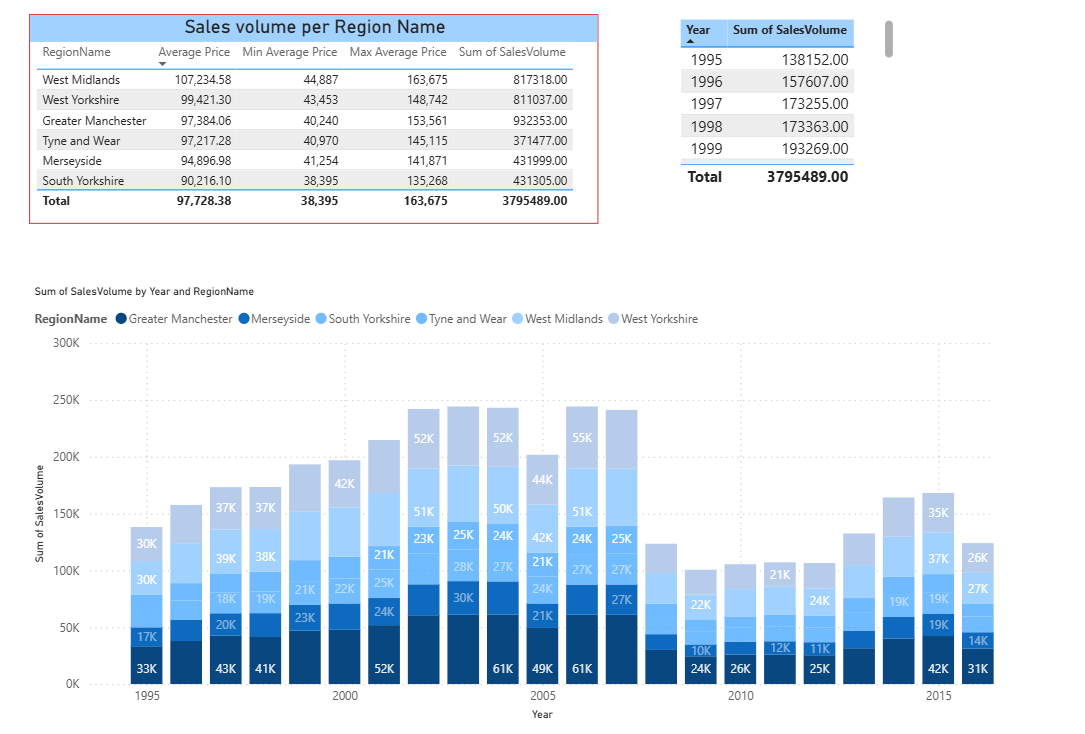

This screenshot's page, from the dashboard's own definition file:
{"tool":"powerbi","page":{"name":"Bar_Chart","canvas":[1280,720],"ordinal":3},"visuals":[{"type":"columnChart","fields":{"Category":["HPIAdmins.Date.Variation.Date Hierarchy.Year"],"Y":["Sum(HPIAdmins.SalesVolume)"],"Series":["HPIAdmins.RegionName"]},"box":[47.5,274,869.6,394],"z":0},{"type":"tableEx","title":"Sales volume per Region Name","fields":{"Values":["HPIAdmins.RegionName","Avg(HPIAdmins.AveragePrice)","Min(HPIAdmins.AveragePrice)1","Max(HPIAdmins.AveragePrice)2","Sum(HPIAdmins.SalesVolume)"]},"box":[47.5,31.3,510.4,188.1],"z":1},{"type":"tableEx","fields":{"Values":["HPIAdmins.Date.Variation.Date Hierarchy.Year","Sum(HPIAdmins.SalesVolume)"]},"box":[625.1,31.3,202.4,159.4],"z":2}]}

Visuals, with their boxes on the page's 1280x720 design canvas (x1, y1, x2, y2). These are canvas units, not pixel positions in the 1085x734 screenshot, which may show the page scaled, cropped or inside an application window:
columnChart - HPIAdmins.Date.Variation.Date Hierarchy.Year x Sum(HPIAdmins.SalesVolume): (48,274,917,668)
"Sales volume per Region Name" tableEx: (48,31,558,219)
tableEx - HPIAdmins.Date.Variation.Date Hierarchy.Year x Sum(HPIAdmins.SalesVolume): (625,31,828,191)
